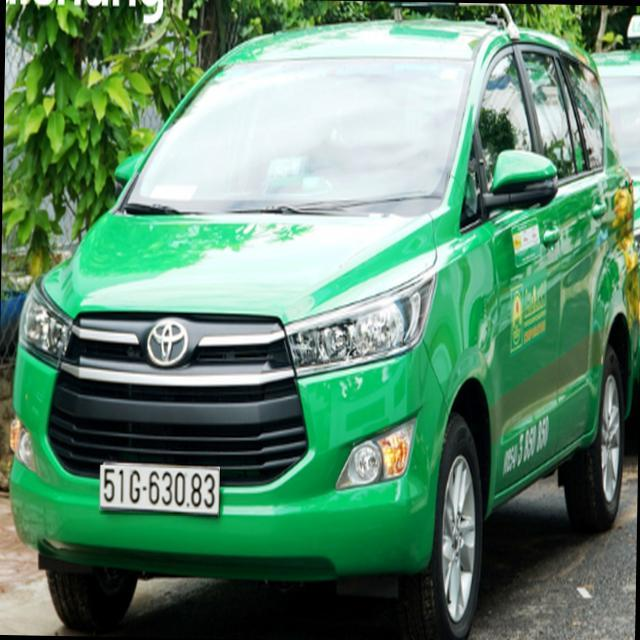car: (0, 16, 619, 640)
plate: (93, 462, 226, 520)
